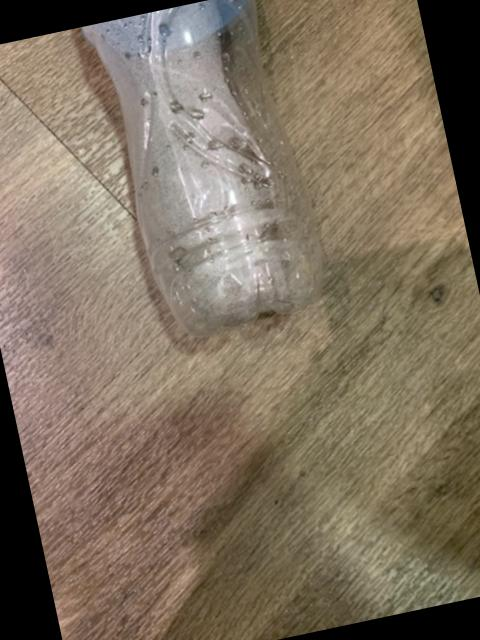plastic: (85, 0, 323, 331)
